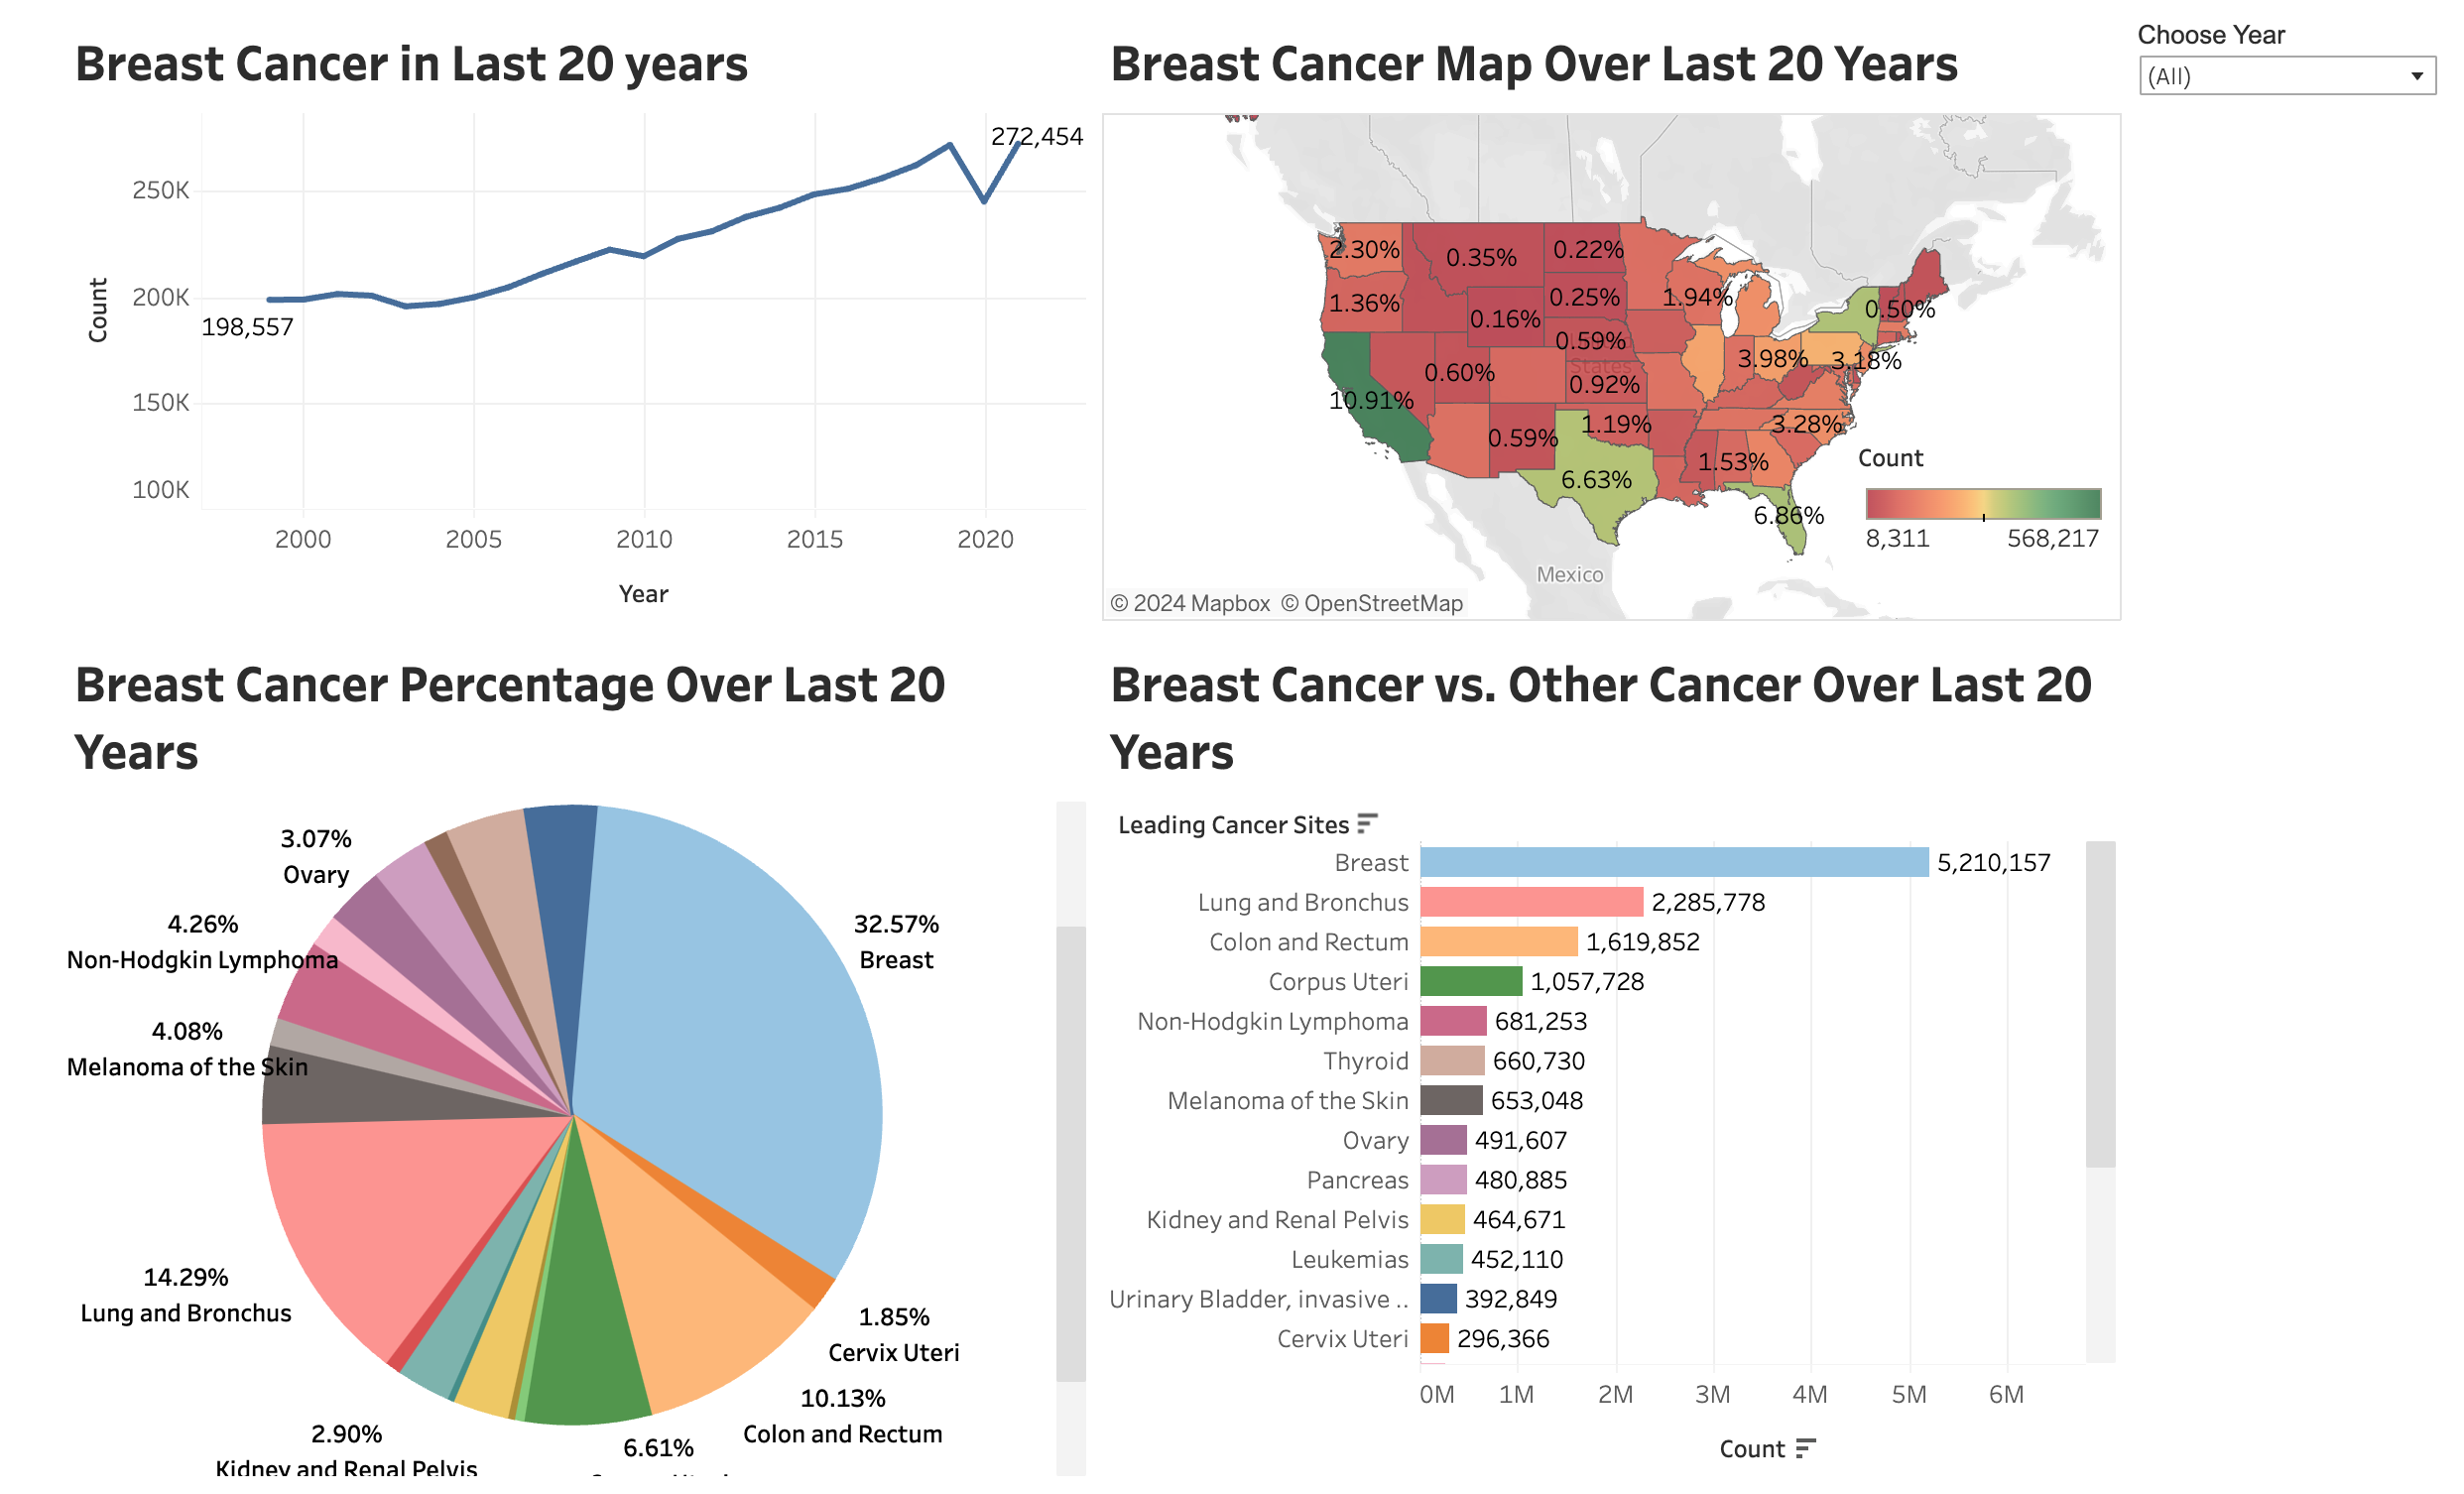

Layout of this report page (visuals, bound fields, positions):
{"tool":"tableau","page":{"name":"Breast Cancer Facts","canvas":[1000,1000],"units":"permille","ordinal":0},"visuals":[{"type":"worksheet","title":"Breast Cancer in last 20 years","mark":"Automatic","rows":["Count"],"cols":["Year"],"box":[6.6,10.5,427.9,411.8]},{"type":"worksheet","title":"Breast Cancer Map","mark":"Automatic","box":[434.4,10.5,427.9,411.8]},{"type":"filter","title":"Breast Cancer Map","param":"[federated.16gm5n81frlxjr1c3q7zl0tcxrzo].[none:Year:ok]","box":[862.3,10.5,131.2,69.7]},{"type":"legend","title":"Breast Cancer Map","param":"[federated.16gm5n81frlxjr1c3q7zl0tcxrzo].[sum:Count:qk]","box":[750,297.4,104.1,100]},{"type":"worksheet","title":"Breast Cancer Percentage","mark":"Pie","box":[6.6,422.4,427.9,567.1]},{"type":"worksheet","title":"Breast cancer vs other cancer","mark":"Automatic","rows":["Leading Cancer Sites"],"cols":["Count"],"box":[434.4,422.4,427.9,567.1]}]}

Visuals, with their boxes on the dashboard's canvas, which has no fixed pixel size, in thousandths of its width and height (x1, y1, x2, y2). These are canvas units, not pixel positions in the 2464x1494 screenshot, which may show the page scaled, cropped or inside an application window:
"Breast Cancer in last 20 years" worksheet: {"left": 7, "top": 10, "right": 434, "bottom": 422}
"Breast Cancer Map" worksheet: {"left": 434, "top": 10, "right": 862, "bottom": 422}
"Breast Cancer Map" filter: {"left": 862, "top": 10, "right": 994, "bottom": 80}
"Breast Cancer Map" legend: {"left": 750, "top": 297, "right": 854, "bottom": 397}
"Breast Cancer Percentage" worksheet (Pie marks): {"left": 7, "top": 422, "right": 434, "bottom": 990}
"Breast cancer vs other cancer" worksheet: {"left": 434, "top": 422, "right": 862, "bottom": 990}
